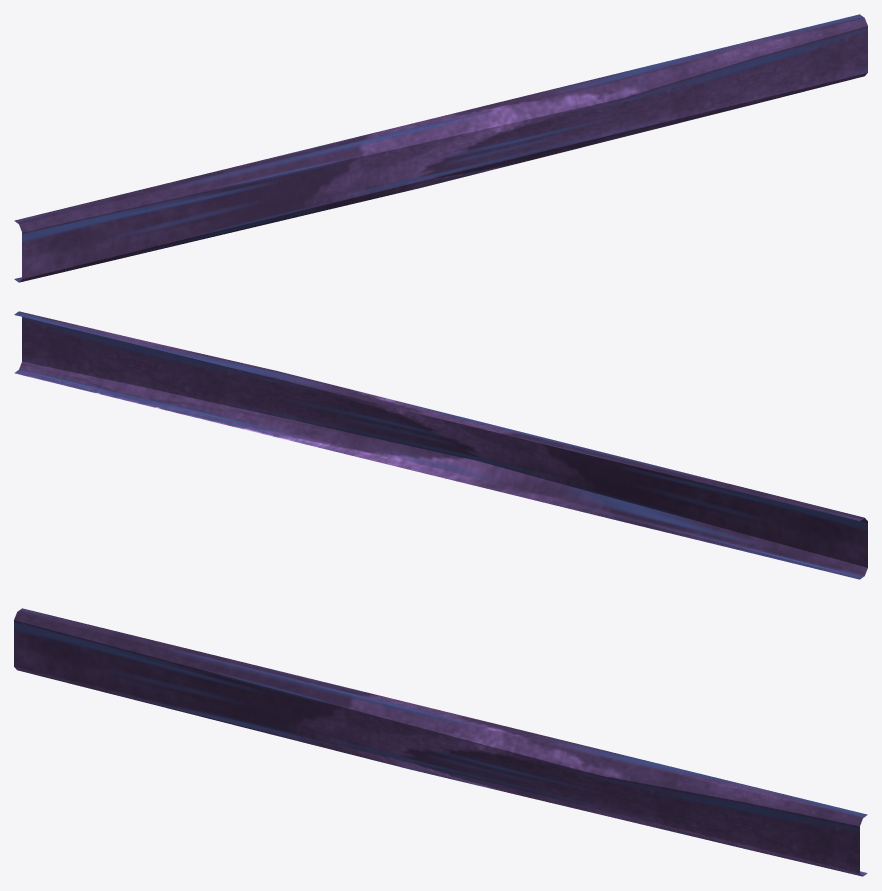
Rendered from TempleBeam02_Art.glb.
3 views of the same model, one above another, from view 1: azimuth 30°, elevation 25°; view 2: azimuth 150°, elevation 25°; view 3: azimuth 330°, elevation 25° (orthographic).
Parts seen in each view (by area): view 1: TempleBeam02_Art; view 2: TempleBeam02_Art; view 3: TempleBeam02_Art.
Boxes of the visible parts, x1,y1,x2,y2 form: TempleBeam02_Art: [14, 14, 867, 282]; TempleBeam02_Art: [14, 311, 867, 579]; TempleBeam02_Art: [14, 608, 867, 876].
Bounding box in the file's own units: 8 × 0.5278 × 0.2264.
1 material, 1 textured.
